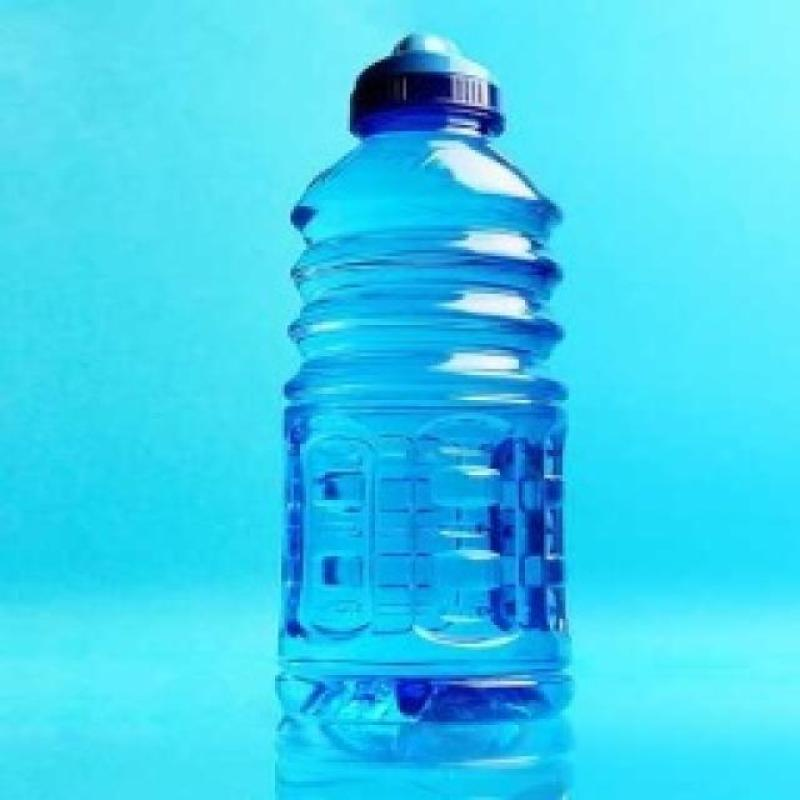botella: (273, 31, 579, 800)
